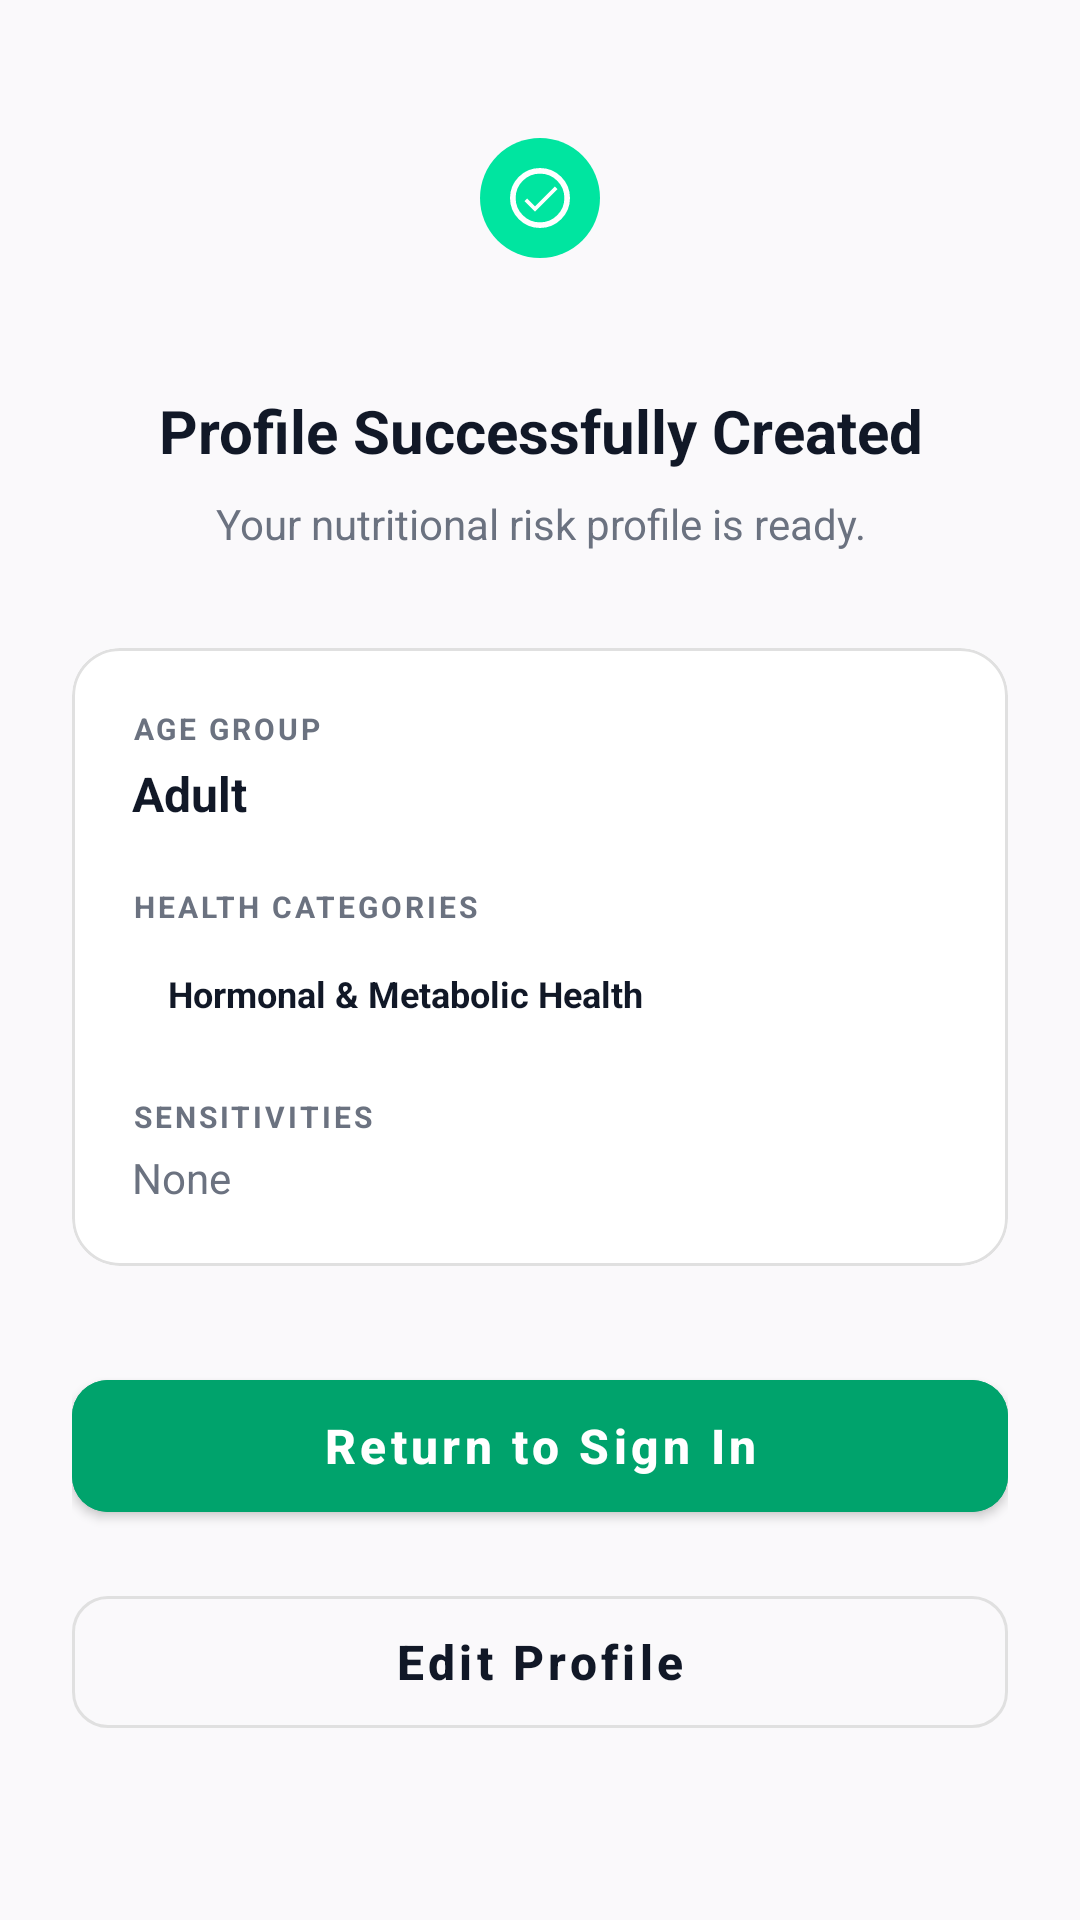

Locate icon controls on the screen. Image size 1080*1920, boxes as (x1, y1, x2, y2).
success check: (480, 138, 600, 258)
